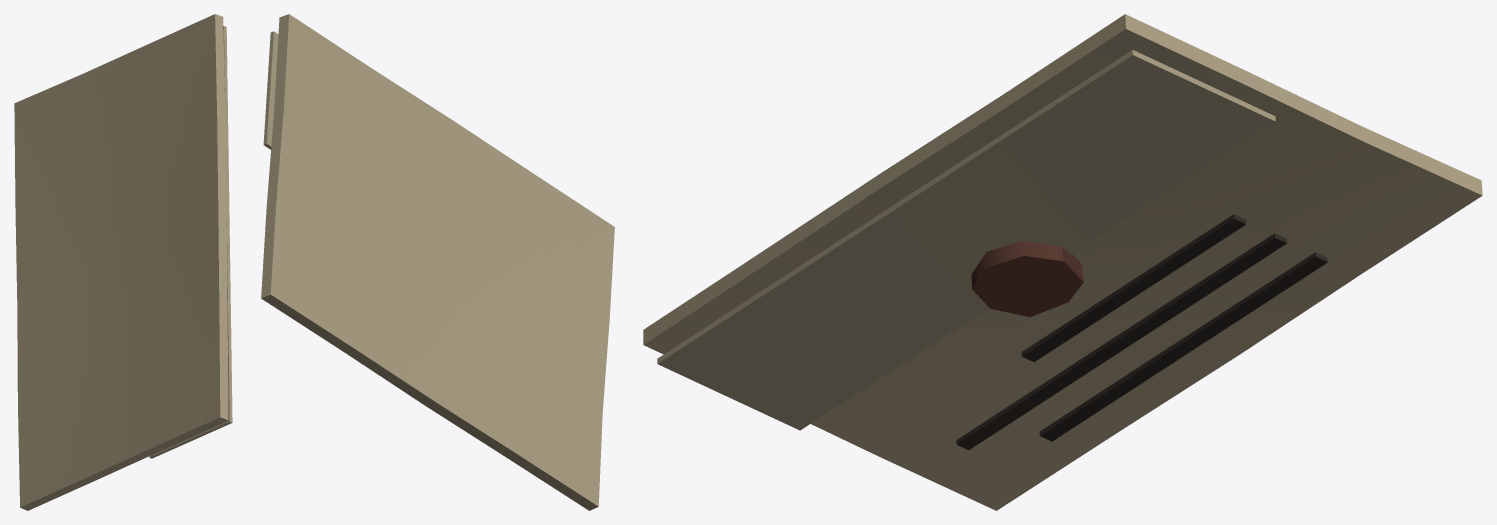
The model's file is ph_tool_letter.glb.
The picture shows the model from 3 angles, left to right: view 1: azimuth 30°, elevation 25°; view 2: azimuth 150°, elevation 25°; view 3: azimuth 270°, elevation 25°; orthographic projection. The views are drawn at different scales.
Parts seen in each view (by area): view 1: ph_tool_letter; view 2: ph_tool_letter; view 3: ph_tool_letter.
Boxes of the visible parts, left/top/right/bottom form: ph_tool_letter: left=14, top=14, right=232, bottom=510; ph_tool_letter: left=261, top=14, right=614, bottom=510; ph_tool_letter: left=643, top=14, right=1482, bottom=510.
Bounding box in the file's own units: 0.1034 × 0.1642 × 0.1842.
